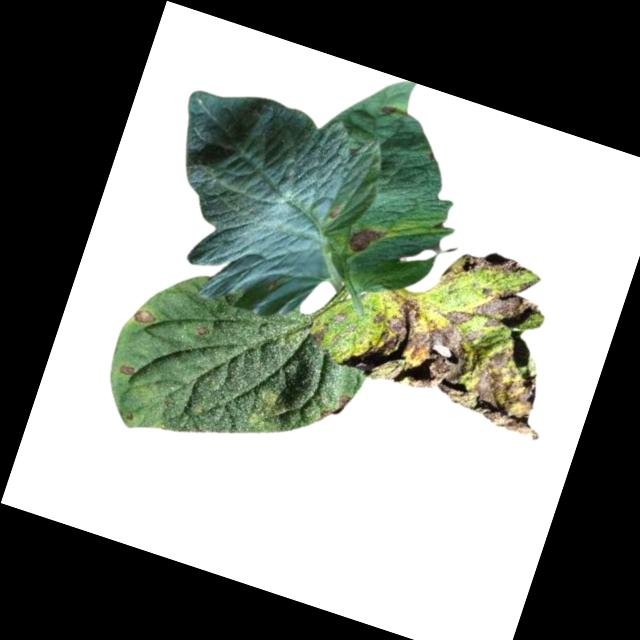Early_blight: (341, 253, 579, 443), (450, 237, 531, 293), (315, 387, 352, 428), (344, 222, 382, 258), (128, 306, 158, 329), (307, 320, 331, 345), (115, 361, 137, 379), (380, 102, 397, 119), (326, 204, 341, 222)
